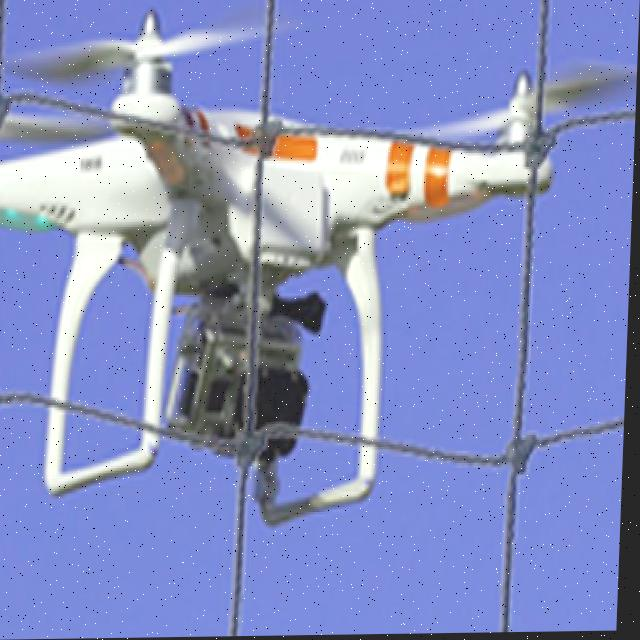drone: (0, 27, 632, 505)
